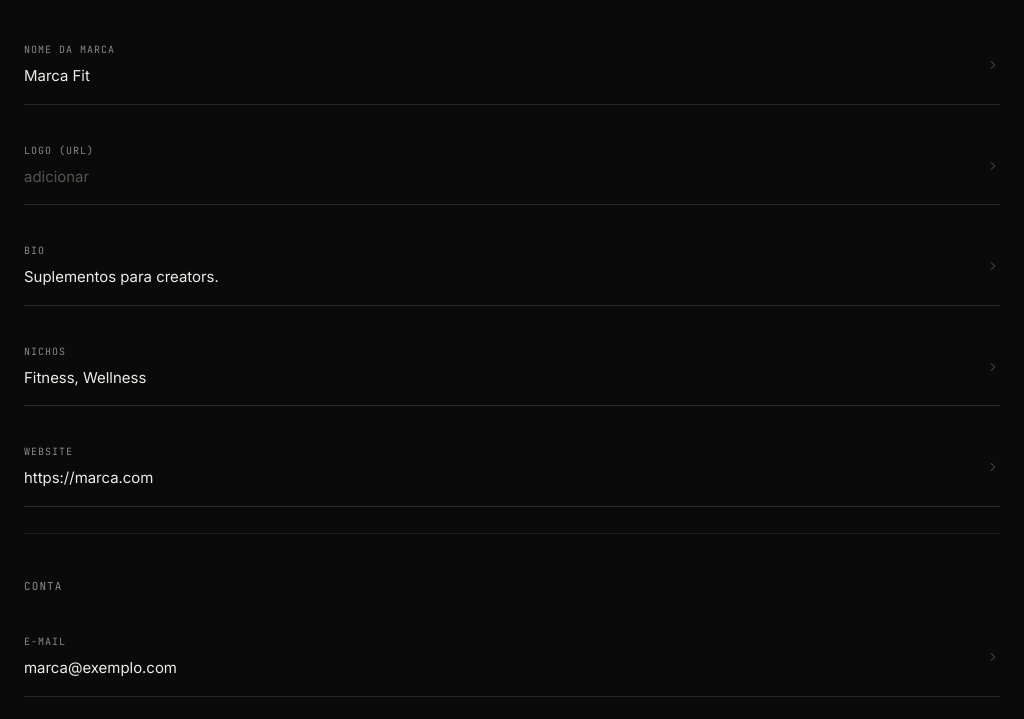
Scenario: ProfilePage › habilita salvar ao alternar um nicho no modal (dirty)
(page scrolled)
Click the button "Nichos Fitness, Wellness" at (45, 351), box [24, 328, 1000, 406]
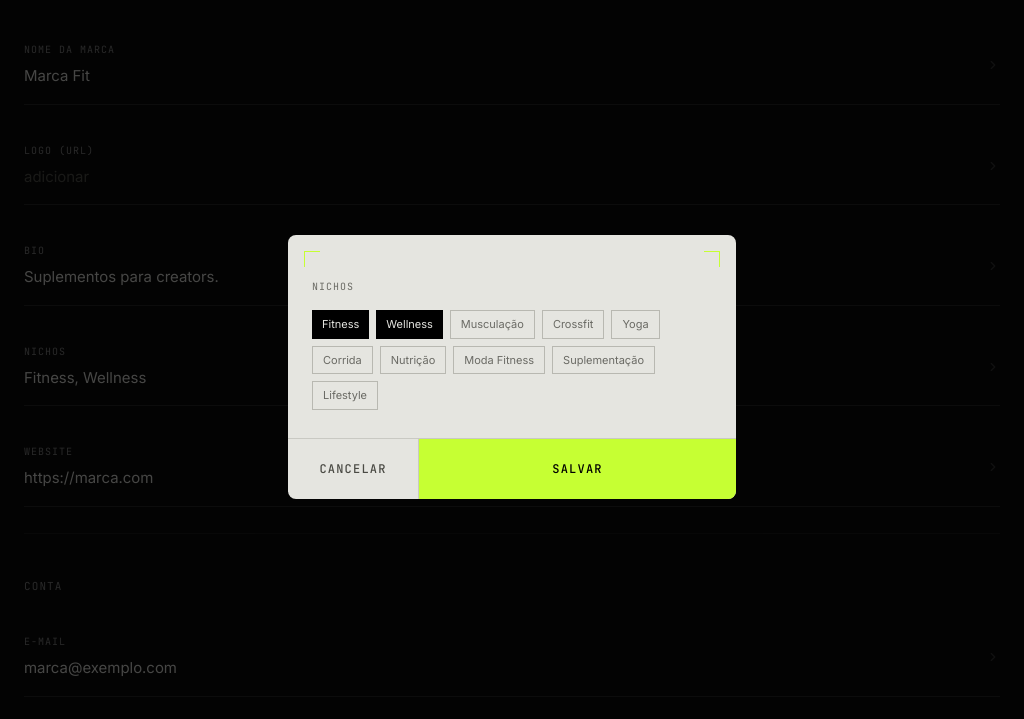
Click the button "crossfit" at (573, 325), box [542, 310, 604, 339]
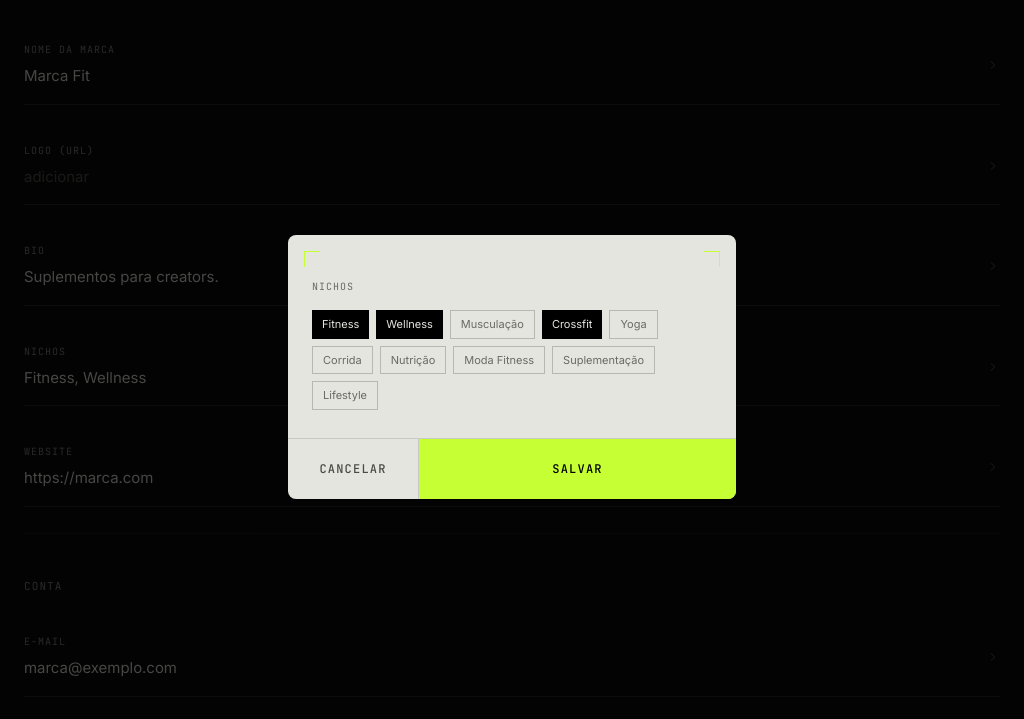
Click the button "Salvar" at (577, 469), box [418, 439, 736, 499]
(page scrolled)
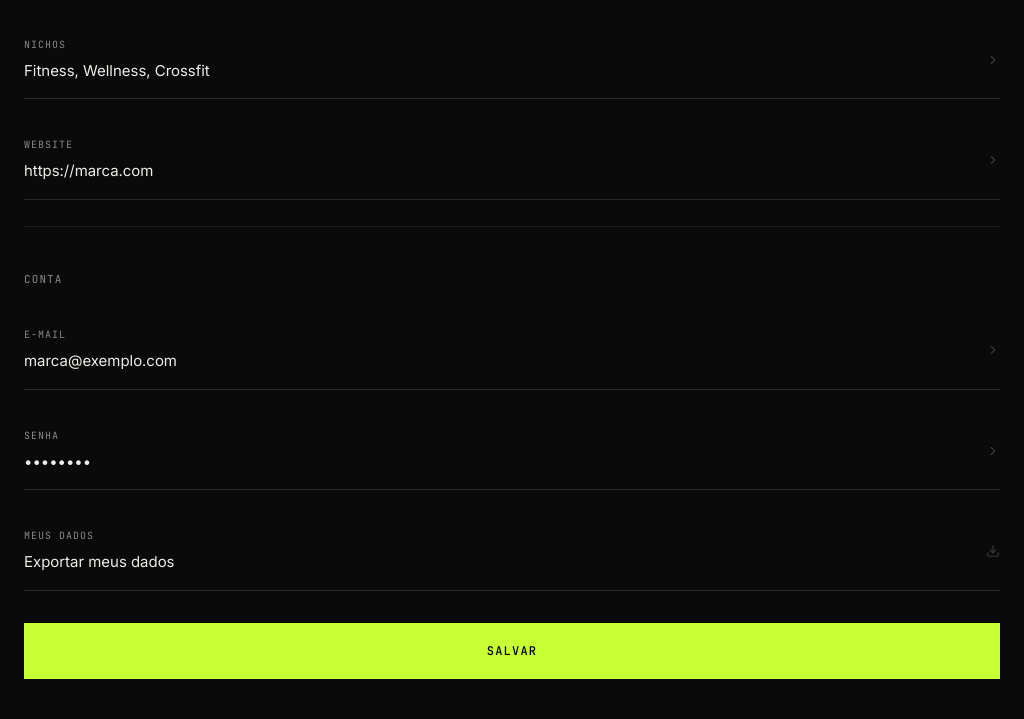
Now the button "Salvar" is enabled, box [24, 623, 1000, 679]
